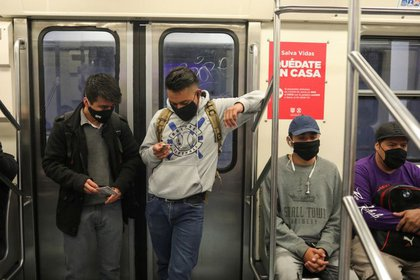with_mask: (165, 79, 206, 121), (82, 81, 121, 124), (285, 119, 321, 161), (374, 129, 410, 170)
